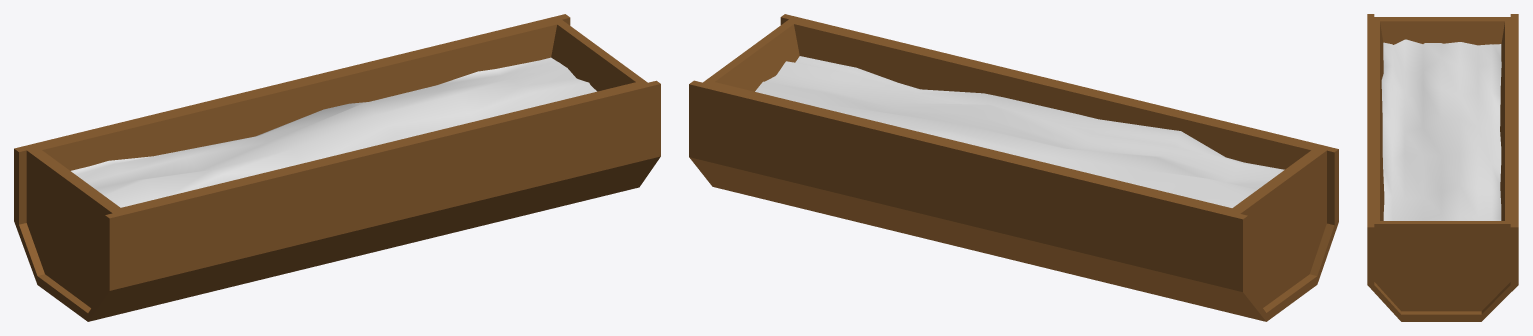
The model's file is SM_Trough_001.fbx.
The picture shows the model from 3 angles, left to right: view 1: azimuth 30°, elevation 25°; view 2: azimuth 150°, elevation 25°; view 3: azimuth 270°, elevation 25°; orthographic projection. The views are drawn at different scales.
Visible parts, largest first — view 1: Trough; view 2: Trough; view 3: Trough.
Part boxes in pixels (<box>): Trough: <box>14,14,660,321</box>; Trough: <box>689,14,1338,321</box>; Trough: <box>1367,14,1518,321</box>.
Size of the model in its own units: 150 by 31 by 45.
